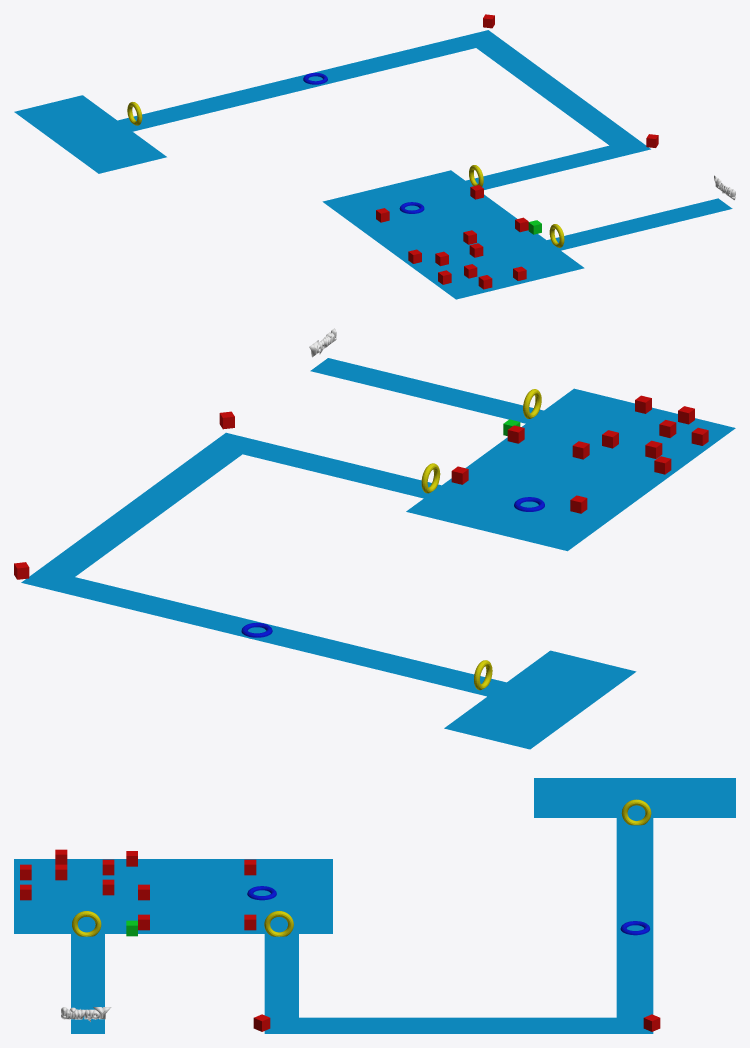
File: Level1Concept.fbx
3 views of the same model, one above another, from view 1: azimuth 30°, elevation 25°; view 2: azimuth 150°, elevation 25°; view 3: azimuth 270°, elevation 25° (orthographic). The views are drawn at different scales.
Visible parts, largest first — view 1: Plane; view 2: Plane; view 3: Plane, Text, Door, Door.001, Door.002.
Part boxes in pixels (left/top/right/bottom): Plane: left=14, top=30, right=732, bottom=299; Plane: left=21, top=358, right=735, bottom=749; Plane: left=14, top=778, right=735, bottom=1033; Text: left=61, top=1007, right=111, bottom=1021; Door: left=621, top=799, right=651, bottom=825; Door.001: left=264, top=911, right=293, bottom=936; Door.002: left=72, top=911, right=101, bottom=936.
Size of the model in its own units: 51.92 by 2.67 by 61.11.
